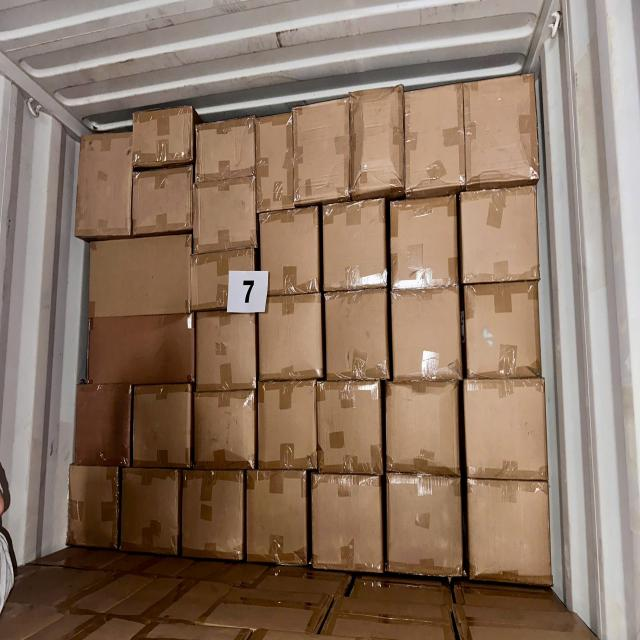Carton: (466, 479, 555, 587), (464, 382, 548, 479), (387, 473, 463, 580), (464, 80, 540, 184), (86, 242, 192, 316), (463, 285, 542, 379), (313, 472, 383, 576), (386, 381, 460, 478), (461, 191, 538, 281), (89, 315, 193, 380), (392, 288, 462, 383), (317, 379, 383, 476), (406, 86, 466, 190), (390, 200, 460, 286), (349, 89, 405, 196), (293, 105, 351, 204), (324, 291, 389, 379), (247, 468, 306, 564), (322, 203, 388, 288), (259, 294, 323, 381), (184, 468, 242, 558), (81, 133, 131, 236), (259, 380, 315, 471), (121, 469, 179, 556), (193, 390, 254, 470), (260, 212, 319, 294), (134, 384, 191, 468), (195, 311, 256, 389), (77, 381, 131, 468), (192, 182, 260, 247), (70, 462, 116, 549), (134, 169, 192, 232), (256, 119, 295, 210), (192, 253, 255, 308), (196, 126, 258, 177), (133, 112, 193, 163)
